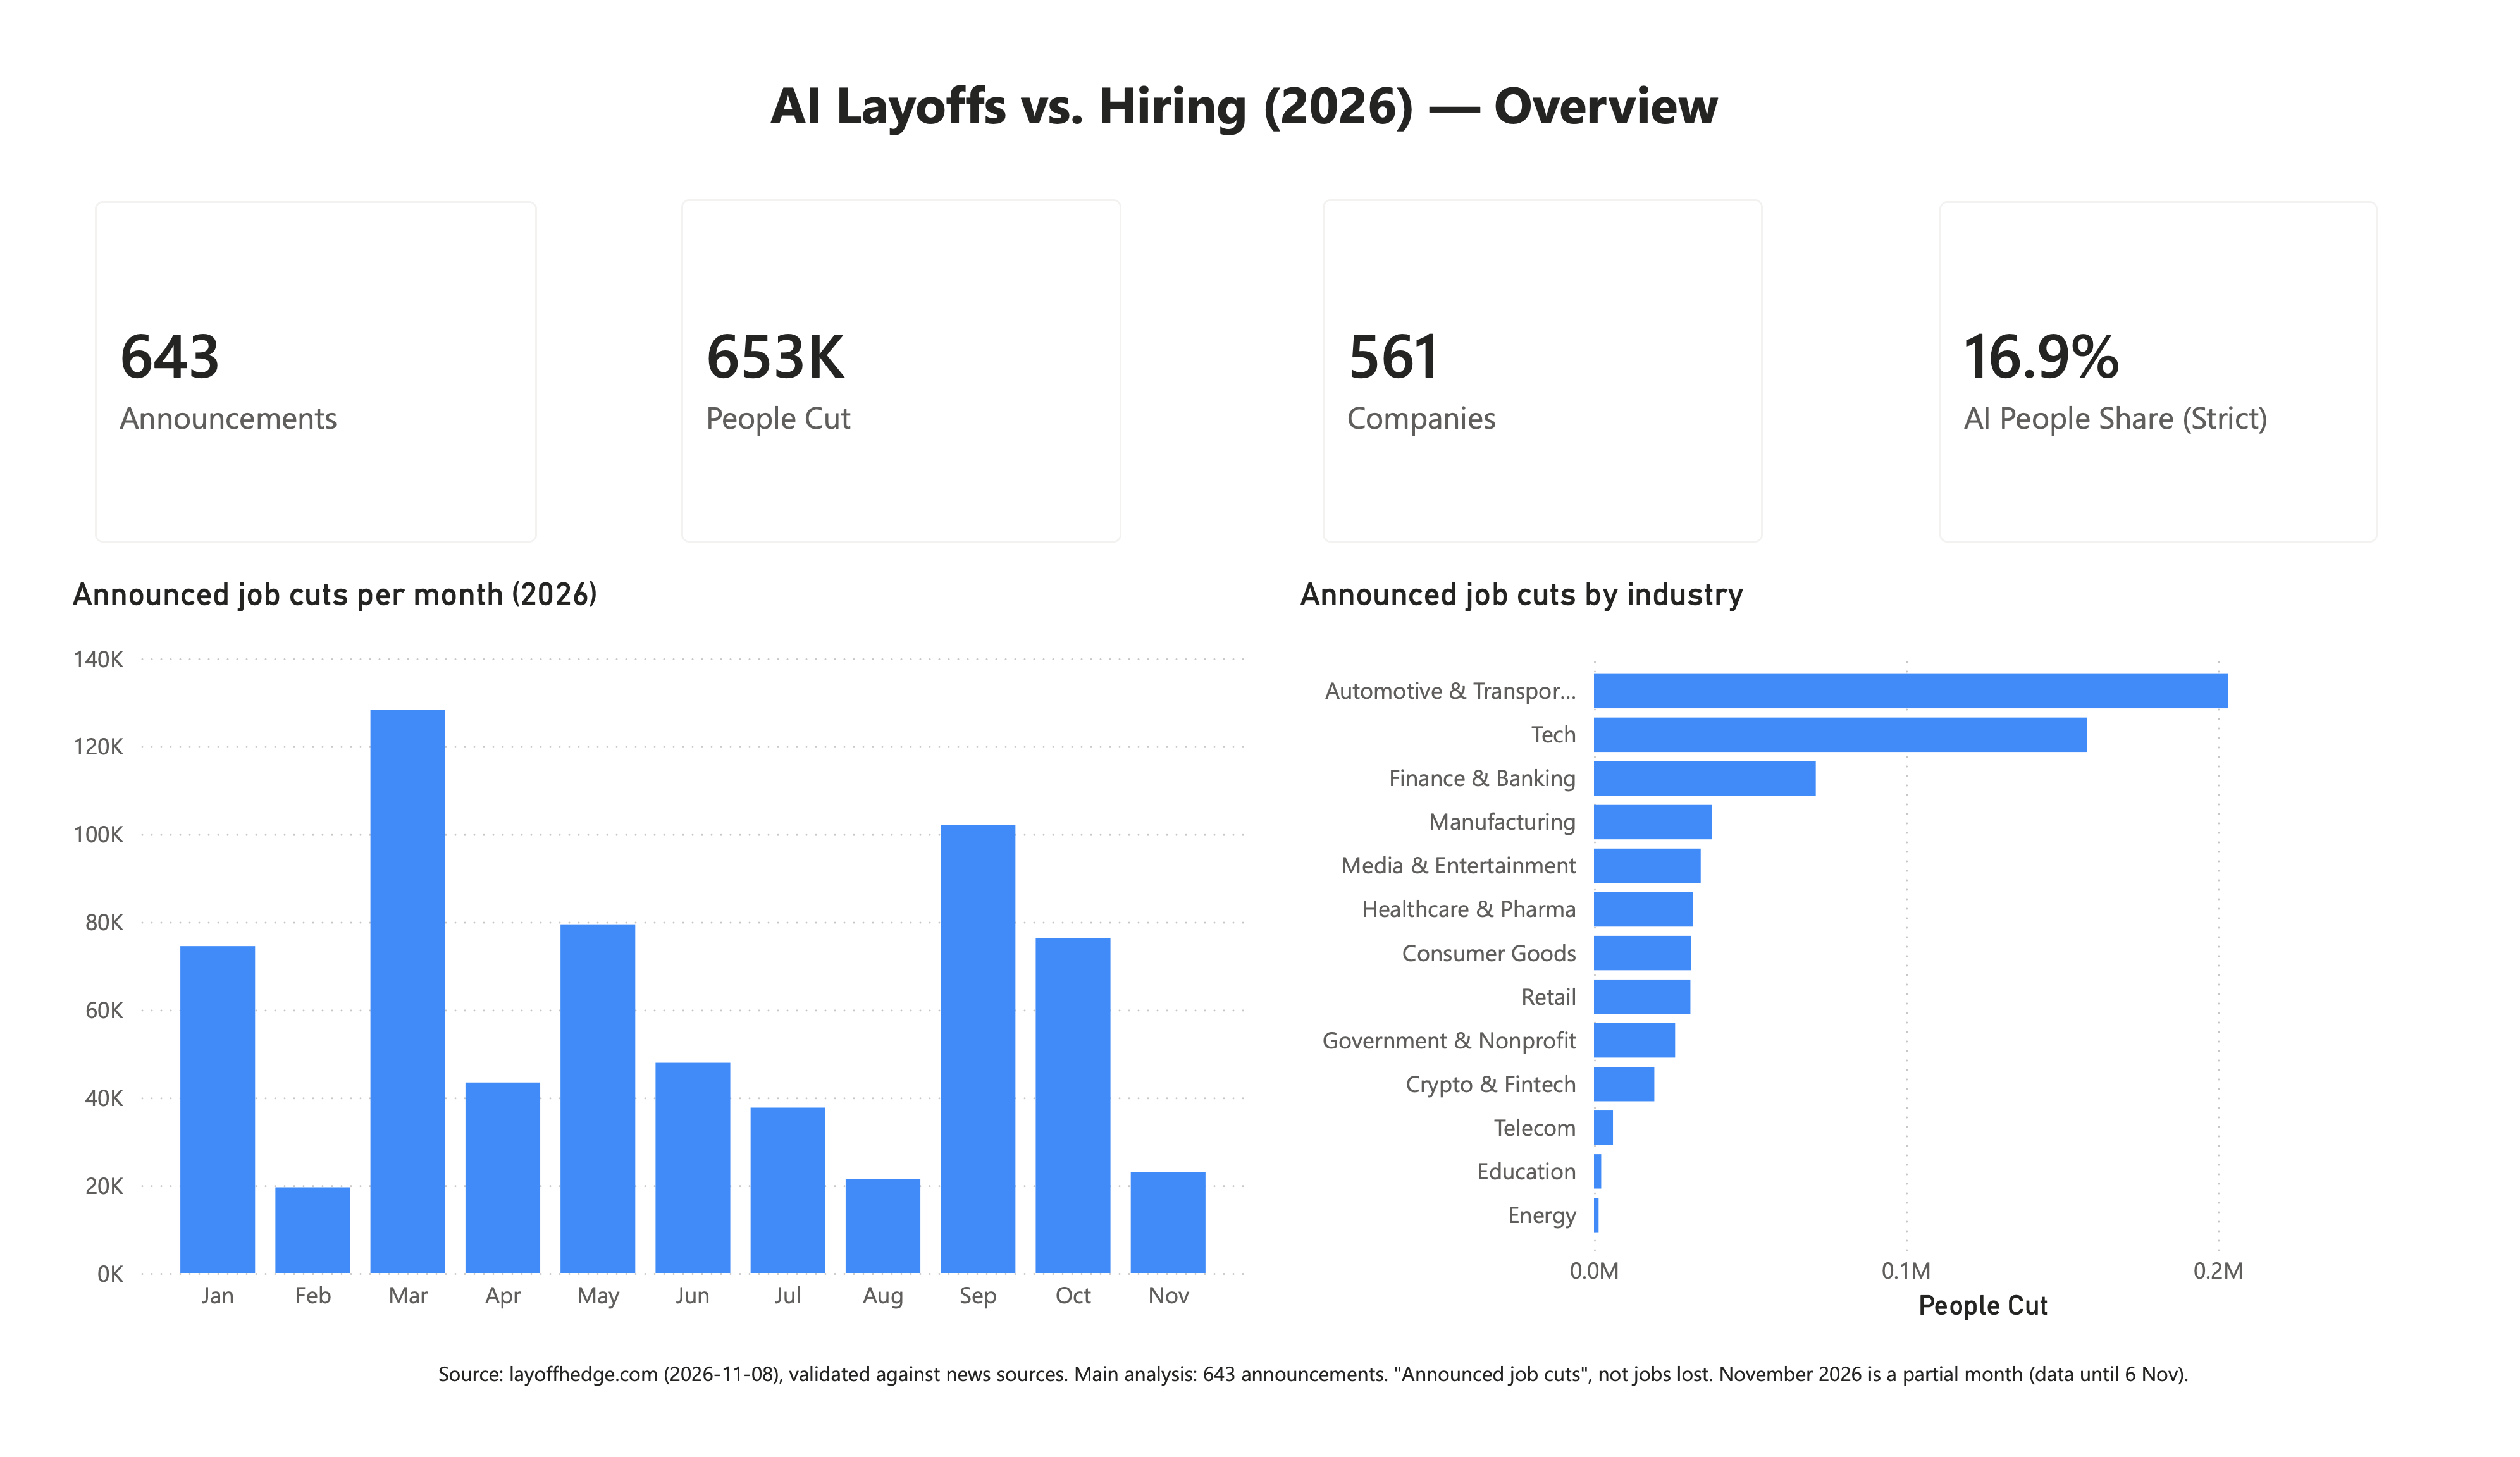

The page's visual inventory and layout, read from the dashboard file:
{"tool":"powerbi","page":{"name":"Overview","canvas":[1280,720],"ordinal":0},"visuals":[{"type":"textbox","box":[377.1,7,519.5,57.9],"z":0},{"type":"cardVisual","fields":{"Data":["_Measures.Announcements"]},"box":[9.4,64.9,266.8,214.4],"z":1000},{"type":"cardVisual","fields":{"Data":["_Measures.People Cut"]},"box":[317.7,64.2,266.8,215.2],"z":2000},{"type":"cardVisual","fields":{"Data":["_Measures.Companies"]},"box":[655.6,64.2,266.8,214.4],"z":3000},{"type":"cardVisual","fields":{"Data":["_Measures.AI People Share (Strict)"]},"box":[981.1,64.9,265.2,214.4],"z":4000},{"type":"clusteredColumnChart","title":"Announced job cuts per month (2026)","fields":{"Category":["dim_date.month_short"],"Y":["_Measures.People Cut"]},"box":[9.4,278.5,627.5,398.2],"z":5000},{"type":"clusteredBarChart","title":"Announced job cuts by industry","fields":{"Category":["dim_industry.industry_name"],"Y":["_Measures.People Cut"]},"box":[655.6,278.5,590.7,398.2],"z":6000},{"type":"textbox","box":[201.9,684.6,935,28.2],"z":7000}]}

Visuals, with their boxes in screenshot pixels (x1, y1, x2, y2), scaled from the page's 1280x720 canvas onto the 2520x1457 screenshot:
textbox: box=[743, 14, 1765, 132]
cardVisual - _Measures.Announcements: box=[18, 132, 544, 565]
cardVisual - _Measures.People Cut: box=[626, 130, 1151, 565]
cardVisual - _Measures.Companies: box=[1291, 130, 1816, 564]
cardVisual - _Measures.AI People Share (Strict): box=[1932, 132, 2454, 565]
"Announced job cuts per month (2026)" clusteredColumnChart: box=[18, 563, 1254, 1369]
"Announced job cuts by industry" clusteredBarChart: box=[1291, 563, 2454, 1369]
textbox: box=[397, 1386, 2239, 1442]
